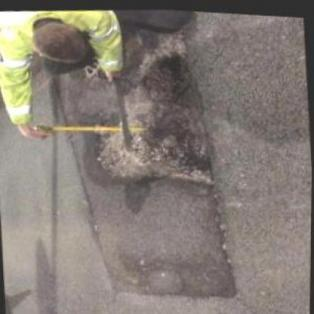Hueco: (78, 105, 219, 195)
